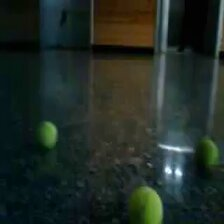tennis: (122, 186, 163, 224), (195, 139, 220, 172), (35, 120, 58, 148)
